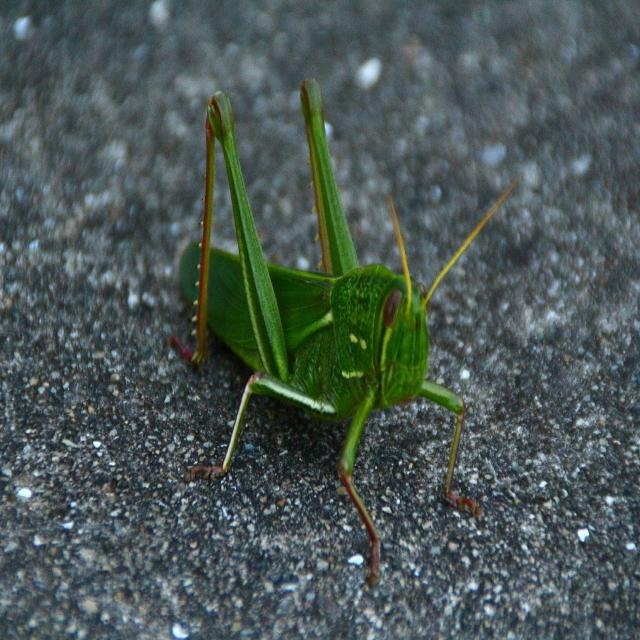ZhaMeng: (197, 64, 476, 494)
